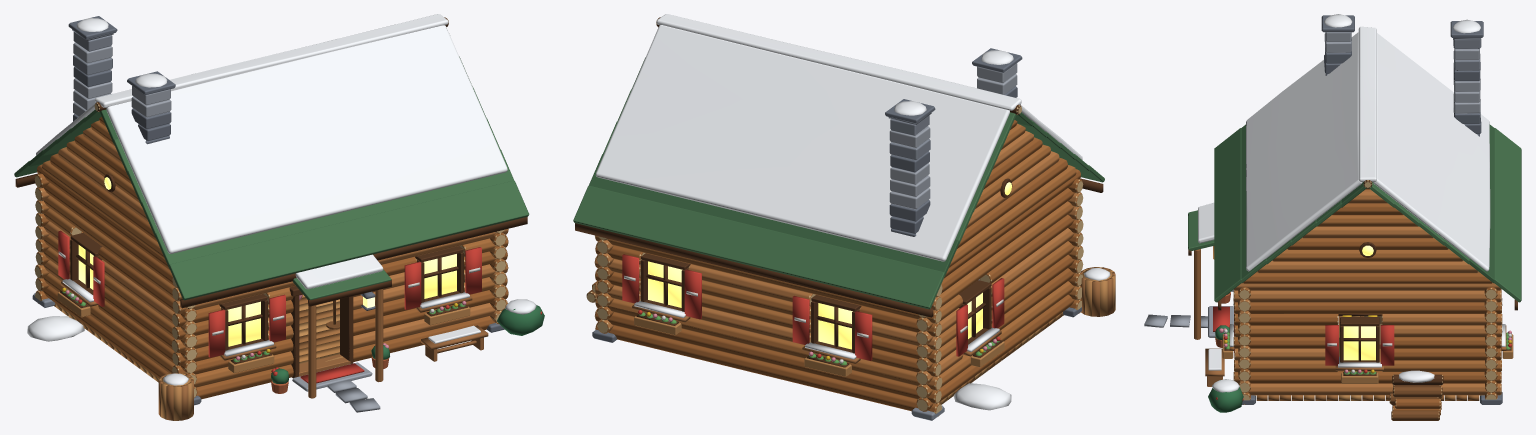
File: house_2.glb
3 renders of one model, left to right at view 1: azimuth 30°, elevation 25°; view 2: azimuth 150°, elevation 25°; view 3: azimuth 270°, elevation 25°, orthographic. The views are drawn at different scales.
Parts seen in each view (by area): view 1: roof, walls, exterior, floor; view 2: roof, walls, exterior, floor; view 3: roof, walls, exterior, floor.
Part boxes in pixels (x1,y1,x2,y2): roof: (14, 14, 529, 308); walls: (32, 164, 508, 405); exterior: (27, 289, 544, 420); floor: (54, 294, 372, 391); roof: (573, 14, 1104, 317); walls: (592, 169, 1083, 420); exterior: (586, 267, 1115, 410); floor: (939, 312, 1063, 404); roof: (1188, 14, 1521, 310); walls: (1222, 188, 1513, 404); exterior: (1144, 246, 1443, 420); floor: (1208, 306, 1480, 400).
Size of the model in its own units: 7.91 by 5.34 by 7.03.
